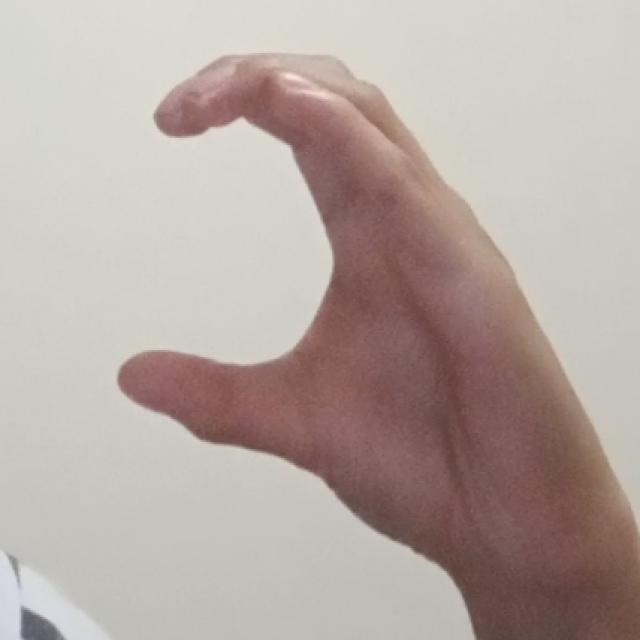C: (109, 42, 629, 596)
